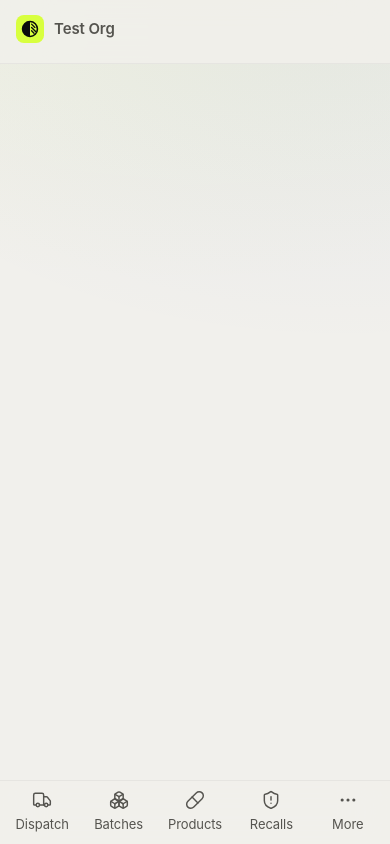
Test: phone navigation › shows four items and a More button, and More holds the rest
The image size is (390, 844).
Expected: the number of links is 4, [16, 790, 69, 832]; [94, 790, 143, 832]; [168, 790, 222, 832]; [250, 790, 293, 832]
Click the button "More": (348, 812) [310, 780, 386, 843]
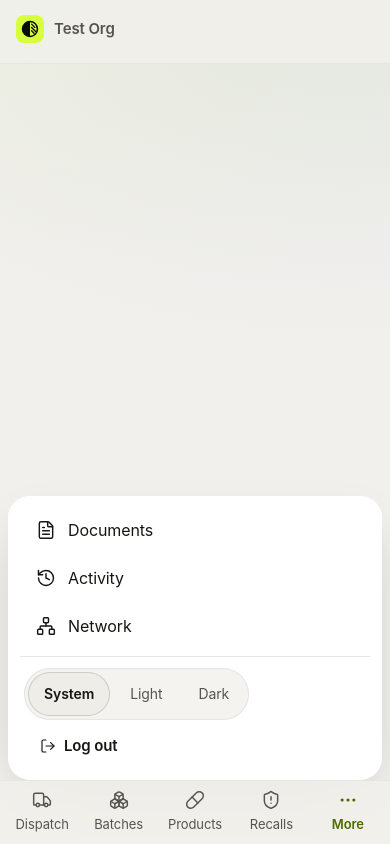
Expected: the link "Documents" is shown, [36, 520, 153, 540]
Expected: the link "Activity" is shown, [36, 568, 124, 588]
Expected: the link "Network" is shown, [36, 616, 132, 636]
